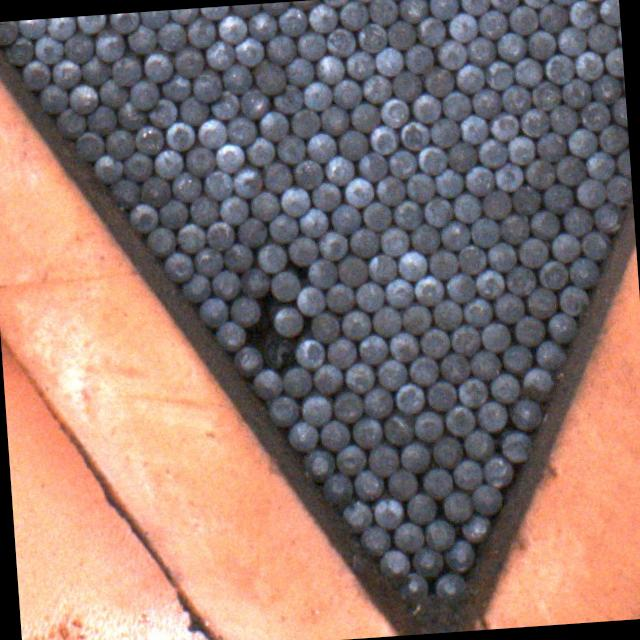tool: (252, 59, 286, 95), (482, 454, 516, 488), (508, 397, 542, 431), (430, 572, 466, 604), (431, 435, 464, 469), (320, 472, 352, 507), (441, 488, 473, 522), (521, 367, 553, 401), (303, 447, 335, 481), (475, 400, 507, 433), (501, 430, 533, 463), (423, 518, 456, 550), (442, 540, 475, 572), (398, 442, 431, 474), (452, 456, 484, 489), (462, 429, 494, 462), (470, 482, 502, 514), (394, 382, 426, 414), (420, 468, 452, 500), (332, 390, 364, 422), (372, 497, 404, 529), (378, 548, 410, 580), (412, 545, 444, 577), (367, 444, 399, 476), (190, 70, 222, 102), (396, 572, 428, 604), (412, 408, 443, 441), (341, 498, 372, 531), (353, 468, 384, 501), (567, 256, 598, 288), (554, 154, 586, 185), (516, 236, 548, 267), (375, 357, 406, 389), (343, 360, 374, 392), (438, 352, 469, 384), (524, 287, 555, 319), (584, 21, 616, 52), (590, 74, 622, 105), (300, 395, 332, 426), (459, 512, 491, 543), (260, 162, 292, 193), (351, 418, 382, 450), (139, 176, 170, 207), (542, 182, 573, 213), (426, 379, 457, 410), (189, 195, 220, 226), (171, 46, 202, 77), (407, 492, 438, 523), (392, 521, 423, 552), (380, 413, 411, 444), (280, 364, 310, 396), (444, 404, 474, 436), (542, 52, 572, 84), (356, 20, 386, 52), (336, 444, 368, 474), (220, 62, 250, 94), (390, 70, 420, 102), (514, 314, 544, 346), (264, 32, 294, 64), (238, 88, 268, 120), (162, 250, 192, 282), (184, 144, 214, 176), (308, 2, 338, 34), (366, 253, 396, 284), (572, 50, 602, 81), (506, 4, 536, 35), (172, 170, 202, 201), (422, 196, 452, 227), (488, 373, 518, 404), (104, 127, 134, 158), (574, 178, 604, 209), (324, 156, 354, 187), (176, 222, 206, 253), (535, 338, 566, 368), (505, 265, 536, 295), (252, 367, 282, 398), (292, 159, 322, 190), (479, 322, 509, 353), (68, 83, 98, 114), (307, 132, 337, 163), (432, 298, 462, 329), (256, 242, 286, 273), (146, 225, 176, 256), (464, 163, 494, 194), (336, 255, 366, 286), (342, 175, 372, 206), (361, 388, 391, 419), (296, 285, 326, 316), (404, 43, 434, 74), (336, 129, 366, 160), (204, 168, 234, 199), (548, 311, 578, 342), (214, 320, 244, 351), (326, 281, 356, 312), (386, 468, 417, 498), (288, 420, 318, 451), (95, 30, 125, 61), (184, 15, 214, 46), (242, 267, 272, 298), (311, 311, 341, 342), (226, 115, 256, 146), (296, 337, 326, 368), (56, 107, 86, 138), (500, 342, 530, 373), (470, 349, 500, 380), (330, 202, 360, 233), (270, 270, 300, 301), (258, 110, 288, 141), (297, 206, 327, 237), (280, 184, 310, 215), (358, 524, 389, 554), (128, 79, 158, 110), (272, 84, 303, 114), (410, 92, 439, 124), (147, 96, 176, 128), (578, 99, 608, 129), (524, 158, 554, 188), (567, 126, 597, 156), (496, 31, 526, 61), (584, 150, 614, 180), (560, 76, 590, 106), (417, 146, 447, 176), (478, 8, 508, 38), (416, 16, 446, 46), (418, 328, 448, 358), (500, 84, 530, 114), (458, 115, 488, 145), (398, 249, 428, 279), (164, 120, 194, 150), (476, 138, 506, 168), (556, 286, 586, 316), (407, 354, 437, 384), (152, 148, 182, 178), (429, 118, 459, 148), (312, 362, 342, 392), (306, 258, 336, 288), (320, 420, 350, 450), (404, 172, 434, 202), (215, 142, 245, 172), (450, 326, 480, 356), (446, 13, 476, 43), (216, 14, 246, 44), (446, 272, 476, 302), (358, 334, 388, 364), (454, 64, 484, 94), (470, 218, 500, 248), (531, 79, 561, 109), (440, 89, 470, 119), (464, 36, 494, 66), (534, 130, 564, 160), (456, 376, 486, 406), (120, 151, 150, 181), (480, 188, 510, 218), (192, 246, 222, 276), (470, 88, 500, 118), (134, 123, 164, 153), (462, 297, 492, 327), (224, 242, 254, 272), (556, 24, 586, 54), (409, 224, 439, 254), (212, 270, 242, 300), (560, 204, 590, 234), (197, 116, 227, 146), (474, 268, 504, 298), (38, 83, 68, 113), (316, 231, 346, 261), (232, 346, 262, 376), (401, 304, 431, 334), (492, 292, 522, 322), (530, 210, 560, 240), (592, 202, 622, 232), (156, 197, 186, 227), (92, 153, 122, 183), (302, 82, 332, 112), (342, 309, 372, 339), (580, 230, 610, 260), (348, 228, 378, 258), (268, 396, 298, 426), (498, 214, 528, 244), (234, 36, 264, 66), (288, 236, 318, 266), (434, 40, 464, 70), (312, 180, 342, 210), (180, 96, 210, 126), (64, 33, 94, 63), (73, 130, 103, 160), (422, 66, 452, 96), (267, 214, 297, 244), (326, 338, 356, 368), (362, 201, 392, 231), (110, 56, 140, 86), (84, 105, 114, 135), (314, 54, 344, 84), (230, 296, 260, 326), (3, 36, 33, 66), (204, 39, 234, 69), (348, 102, 378, 132), (290, 108, 320, 138), (274, 134, 304, 164), (154, 20, 184, 50), (81, 54, 111, 84), (142, 52, 172, 82), (127, 22, 157, 52), (250, 190, 280, 220), (245, 136, 275, 166), (273, 306, 303, 336), (110, 178, 140, 208), (389, 330, 418, 361), (198, 297, 227, 328), (337, 1, 368, 30), (604, 173, 632, 205), (547, 104, 576, 134), (451, 192, 480, 222), (549, 234, 578, 264), (434, 166, 463, 196), (537, 260, 566, 290), (378, 98, 407, 128), (439, 222, 468, 252), (520, 108, 549, 138), (505, 134, 534, 164), (446, 140, 475, 170), (22, 58, 51, 88), (372, 306, 401, 336), (488, 112, 518, 141), (526, 30, 555, 60), (387, 150, 416, 180), (458, 242, 487, 272), (319, 106, 348, 136), (378, 227, 408, 256), (127, 201, 156, 231), (219, 194, 248, 224), (413, 274, 442, 304), (494, 162, 523, 192), (393, 200, 422, 230), (181, 274, 211, 303), (374, 174, 403, 204), (510, 185, 539, 215), (383, 277, 412, 307), (238, 218, 267, 248), (361, 73, 390, 103), (331, 79, 360, 109), (429, 249, 458, 279), (51, 57, 80, 87), (373, 46, 402, 76), (598, 123, 628, 152), (247, 11, 276, 41), (358, 152, 387, 182), (343, 50, 372, 80), (277, 7, 306, 37), (209, 90, 239, 119), (284, 58, 313, 88), (160, 71, 190, 100), (356, 280, 384, 311), (326, 27, 354, 58), (568, 0, 597, 29), (35, 34, 64, 63), (386, 18, 414, 48), (512, 56, 540, 86), (488, 242, 516, 272), (206, 220, 234, 250), (368, 124, 396, 154), (538, 3, 566, 33), (484, 58, 512, 88), (232, 167, 260, 197), (98, 78, 126, 108), (399, 122, 428, 150), (296, 31, 324, 60), (117, 102, 146, 130), (366, 0, 396, 24), (395, 0, 426, 22), (48, 16, 76, 40), (108, 12, 138, 33), (16, 18, 46, 38), (604, 46, 623, 76), (76, 15, 106, 33), (598, 0, 620, 24), (428, 0, 457, 18), (139, 10, 169, 27), (610, 96, 627, 126), (615, 148, 631, 177), (459, 0, 488, 15), (169, 8, 198, 23), (229, 4, 260, 18), (0, 20, 18, 44), (200, 6, 230, 20), (260, 2, 288, 15), (489, 0, 518, 11), (289, 0, 321, 9), (521, 0, 550, 7), (322, 0, 350, 6), (349, 0, 379, 2)
tool_b: (263, 338, 297, 371)
void: (243, 318, 274, 348)
